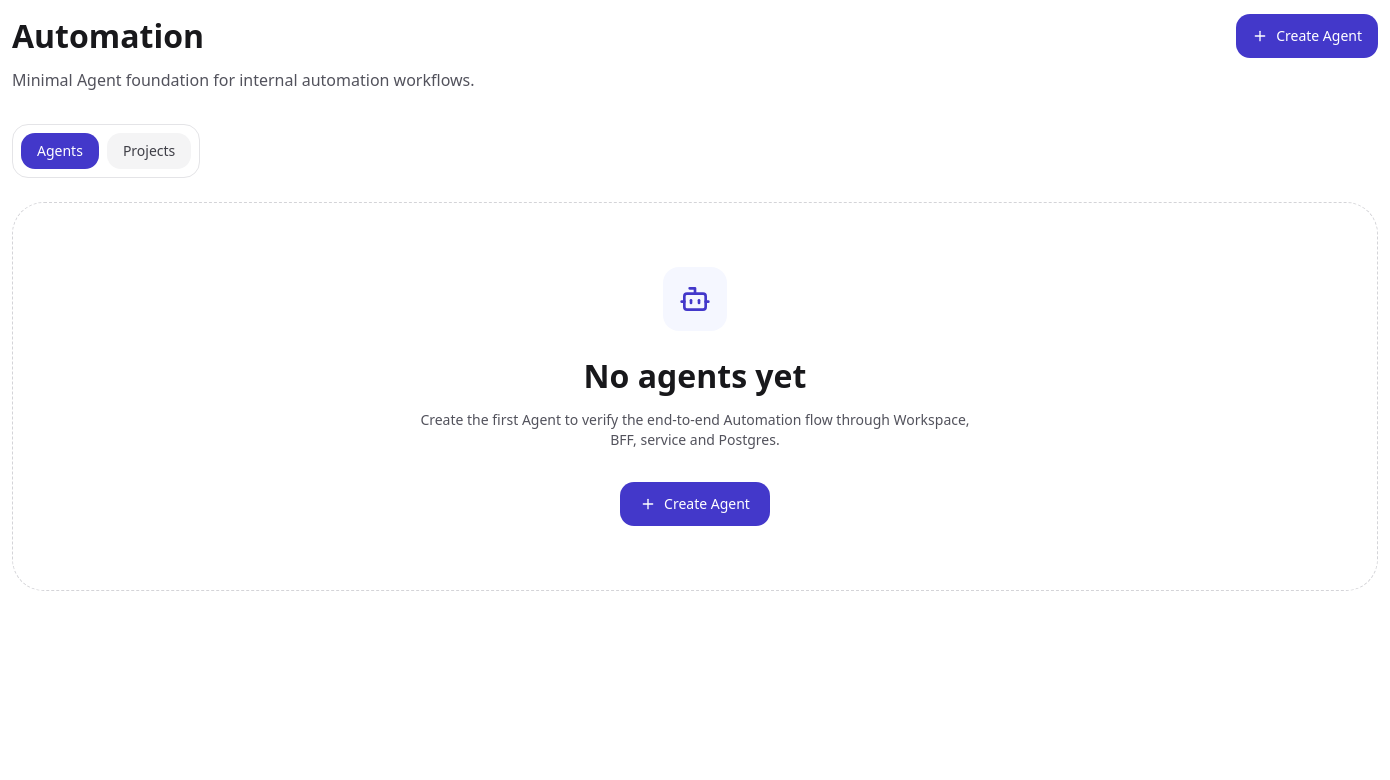
Test case: AutomationPage › shows projects empty state when projects tab selected
The image size is (1390, 780).
Expected: the heading "No agents yet" is shown, [584,354,806,397]
Step 1. Click the button "Projects" → (149, 151), box [107,133,191,169]
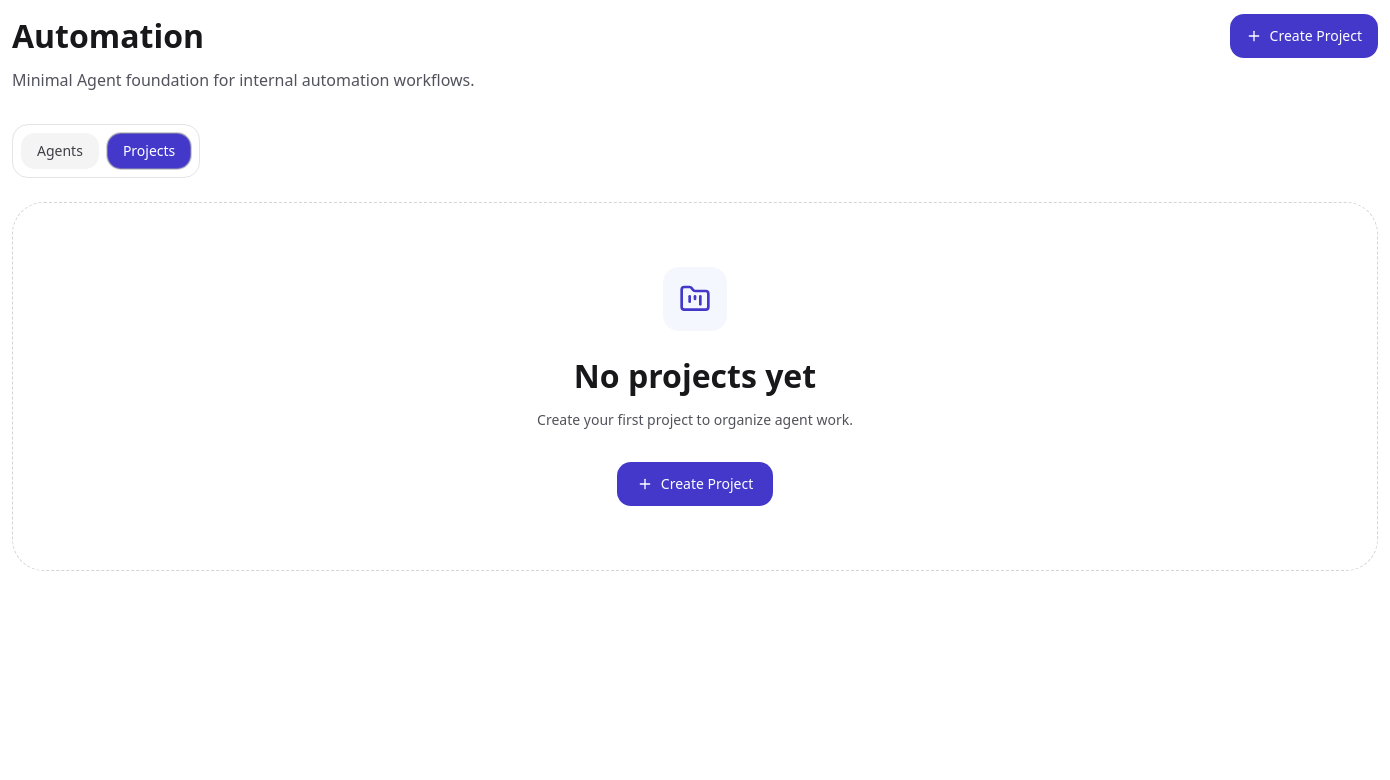
Expected: the number of buttons "Create Project" is 2, [1230,14,1378,58]; [617,462,773,506]
Expected: the heading "No projects yet" is shown, [574,354,816,397]
